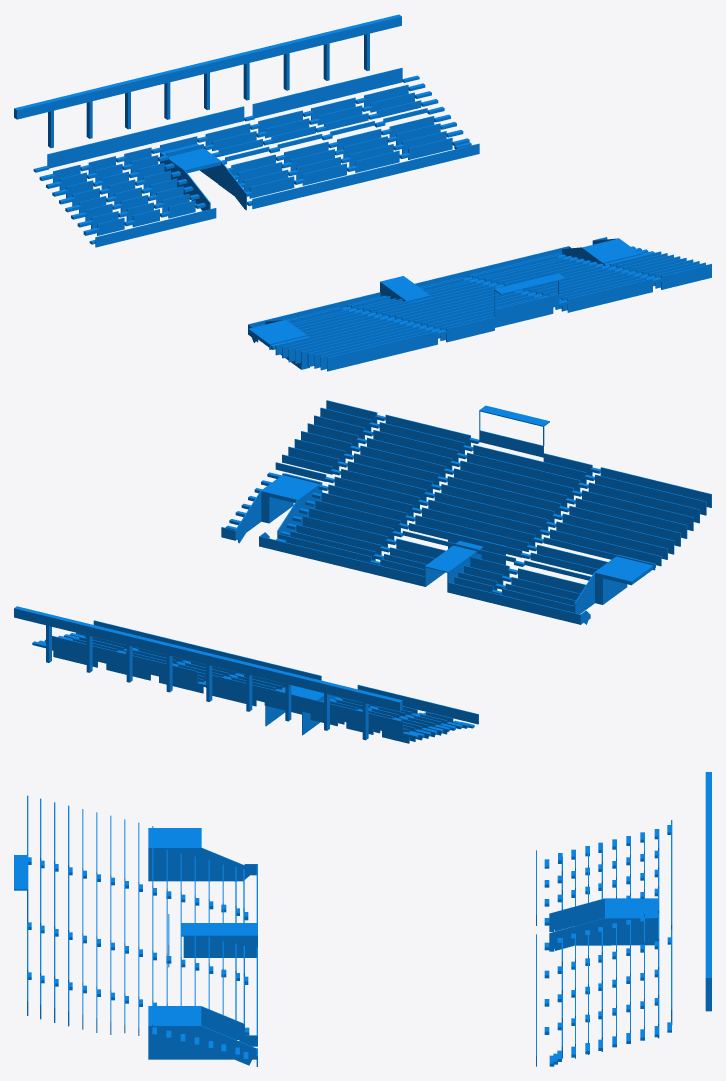
Rendered from BlueStand 1.fbx.
The picture shows the model from 3 angles, top to bottom: view 1: azimuth 30°, elevation 25°; view 2: azimuth 150°, elevation 25°; view 3: azimuth 270°, elevation 25°; orthographic projection. The views are drawn at different scales.
Visible parts, largest first — view 1: BlueStand; view 2: BlueStand; view 3: BlueStand.
Part boxes in pixels (<box>): BlueStand: <box>14,14,711,371</box>; BlueStand: <box>14,400,711,743</box>; BlueStand: <box>14,772,711,1066</box>.
Bounding box in the file's own units: 5195 × 1196 × 7435.
